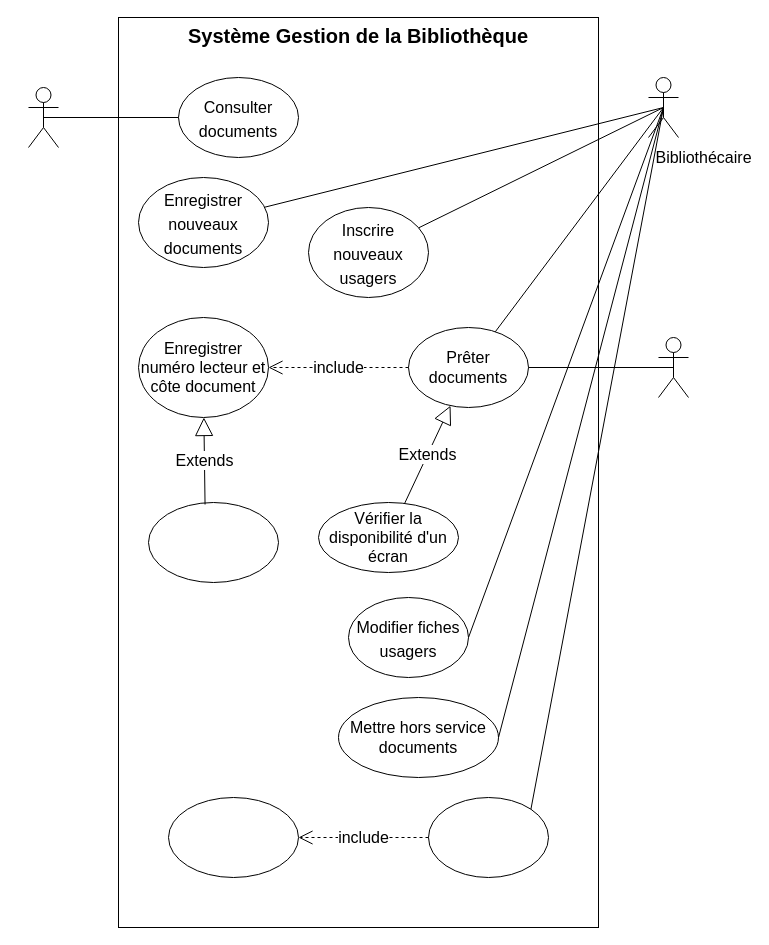
The diagram is 769 pixels wide and 945 high, and some of its shapes have lost their labels. Each missing label, with the box of its shape:
Bénévole: (658, 336, 688, 398)
Consulter état usagers: (168, 796, 298, 878)
Enregistrer la caution pour CD-ROM: (148, 502, 278, 582)
Lecteur: (28, 86, 58, 148)
Relancer usagers: (428, 796, 548, 878)
